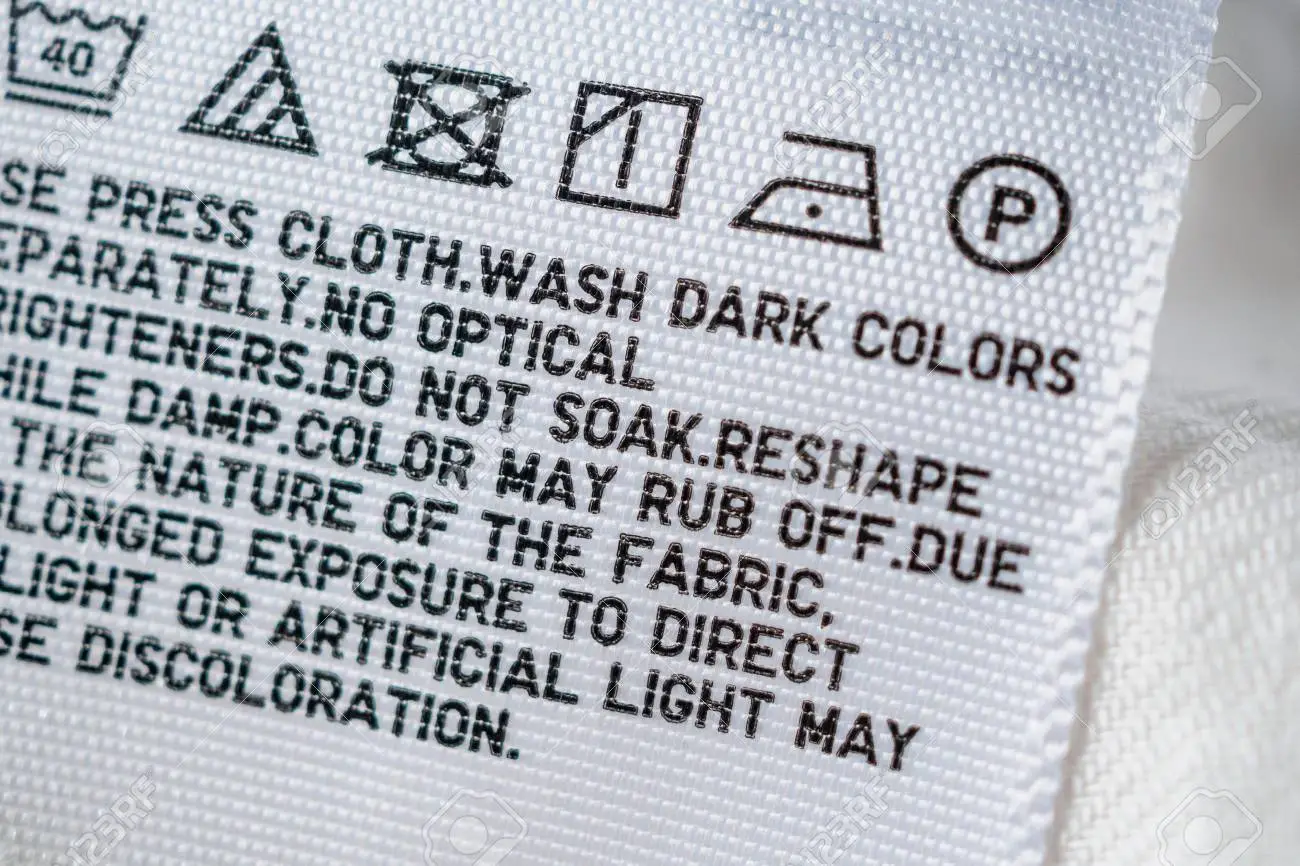ER_dry_clean_chemical: (942, 134, 1087, 288)
ER_flat_dry_in_shade: (539, 65, 716, 225)
ER_iron_low_temp: (726, 99, 895, 267)
ER_no_tumble_dry: (362, 37, 530, 192)
ER_non_chlorine_bleach: (169, 11, 330, 176)
ER_wash_40_mild: (5, 0, 146, 125)
